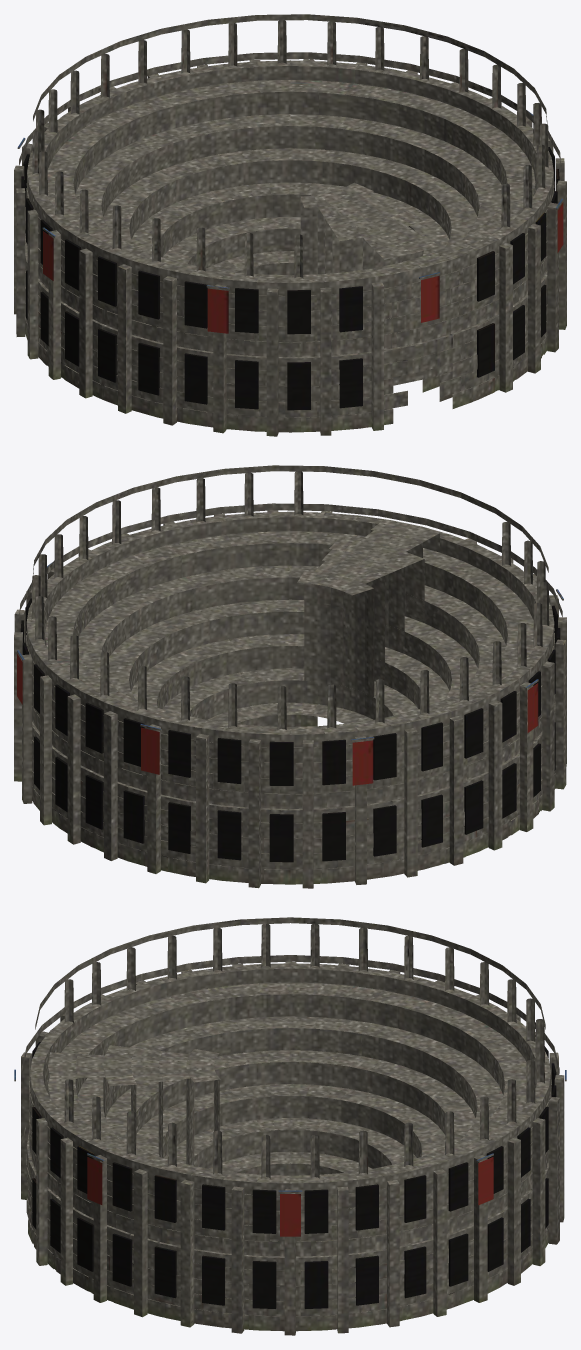
The model's file is bld_colosseum_card.glb.
3 views of the same model, one above another, from view 1: azimuth 30°, elevation 25°; view 2: azimuth 150°, elevation 25°; view 3: azimuth 270°, elevation 25° (orthographic).
Parts seen in each view (by area): view 1: colosseum_card; view 2: colosseum_card; view 3: colosseum_card.
Part boxes in pixels (x1,y1,x2,y2): colosseum_card: [14, 14, 566, 436]; colosseum_card: [14, 465, 566, 888]; colosseum_card: [14, 917, 566, 1335].
Size of the model in its own units: 44.2 by 17.17 by 44.2.
Materials: 1 (1 with a texture image).
